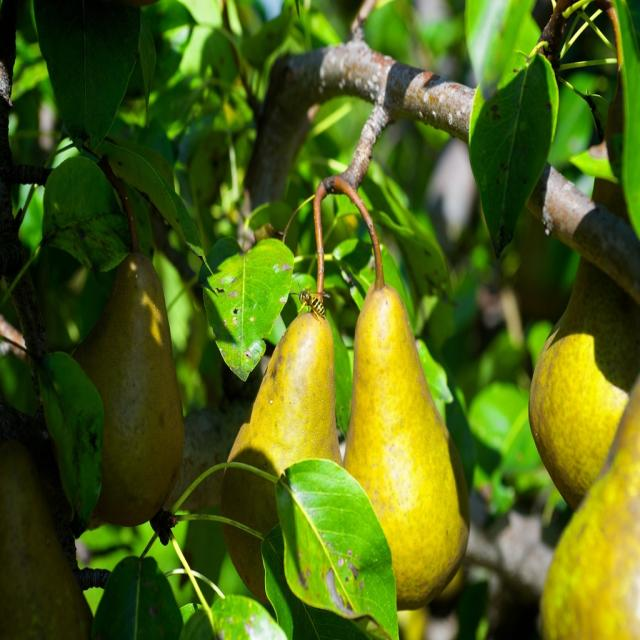pear: (341, 284, 472, 610), (527, 154, 639, 513), (222, 311, 341, 614), (78, 253, 188, 527), (540, 375, 640, 640), (0, 433, 95, 639)
